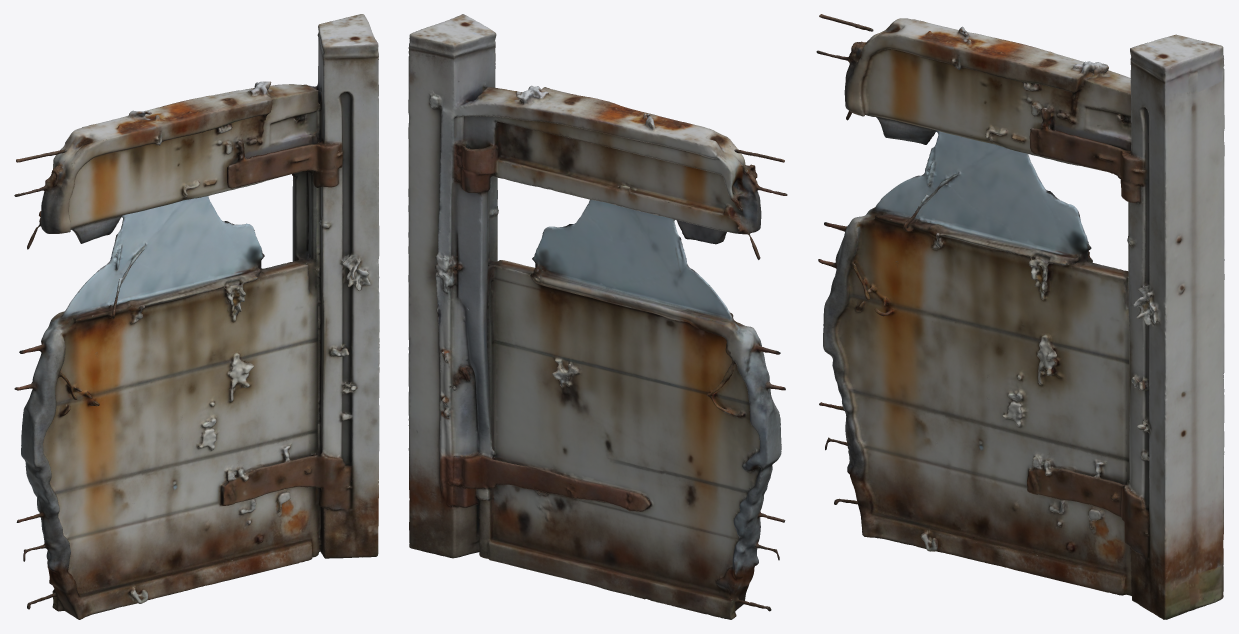
Rendered from Meshy_AI_Rusted_Window_Frame_0506124529_texture.fbx.
3 views of the same model, side by side, from view 1: azimuth 30°, elevation 25°; view 2: azimuth 150°, elevation 25°; view 3: azimuth 330°, elevation 25° (orthographic). The views are drawn at different scales.
Visible parts, largest first — view 1: Mesh_0; view 2: Mesh_0; view 3: Mesh_0.
Part boxes in pixels (x1,y1,x2,y2): Mesh_0: [14, 14, 379, 619]; Mesh_0: [408, 14, 787, 619]; Mesh_0: [816, 14, 1224, 619].
Bounding box in the file's own units: 148 × 200 × 30.19.
1 material, 1 textured.
